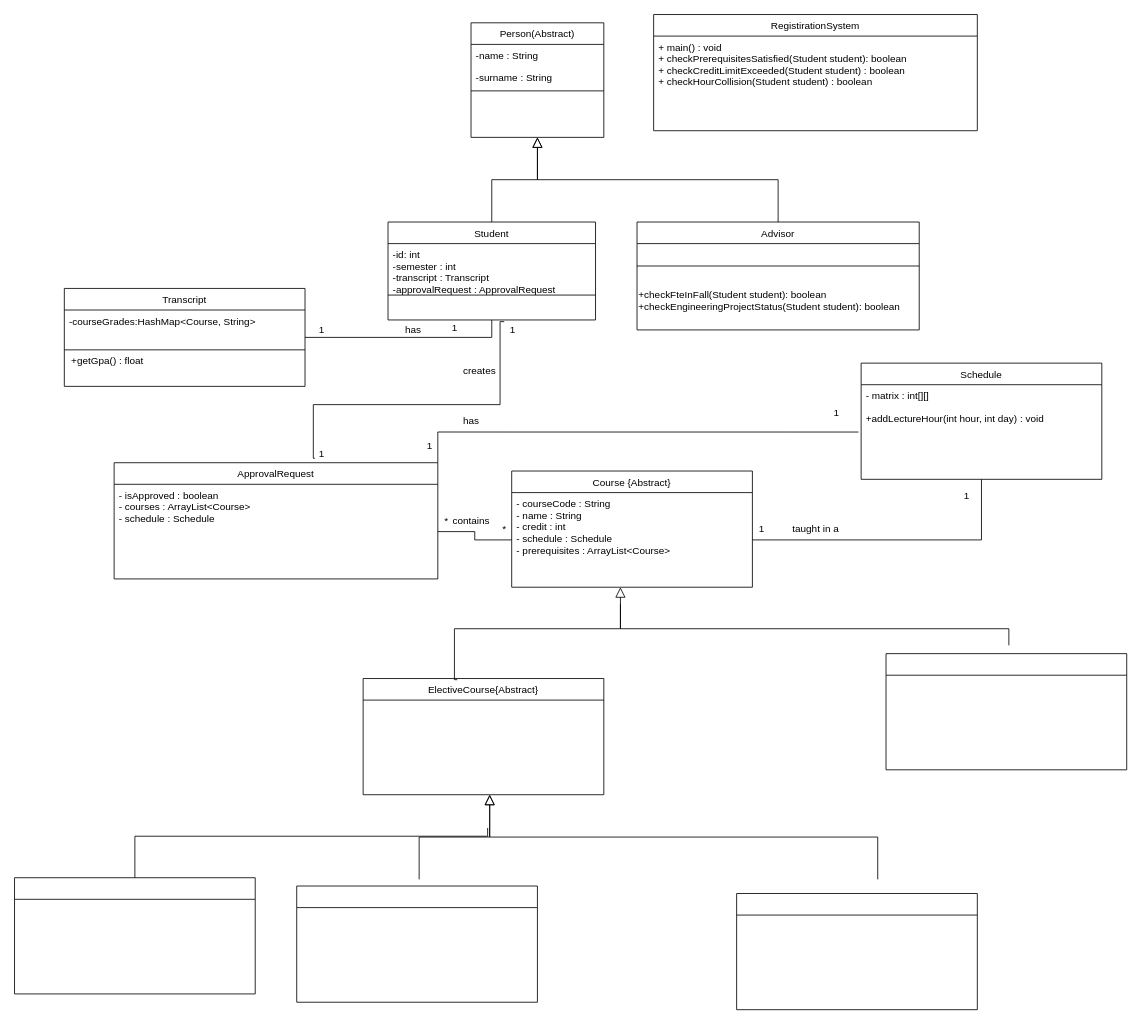
This 1141x1024 diagram has some shape labels left out. Each missing label, with the centre of its shape:
"CompulsoryCourse" goes at (x=1006, y=711).
"FacultyElective" goes at (x=134, y=935).
"NonTechnicalElective" goes at (x=856, y=951).
"TechnicalElective" goes at (x=416, y=943).
